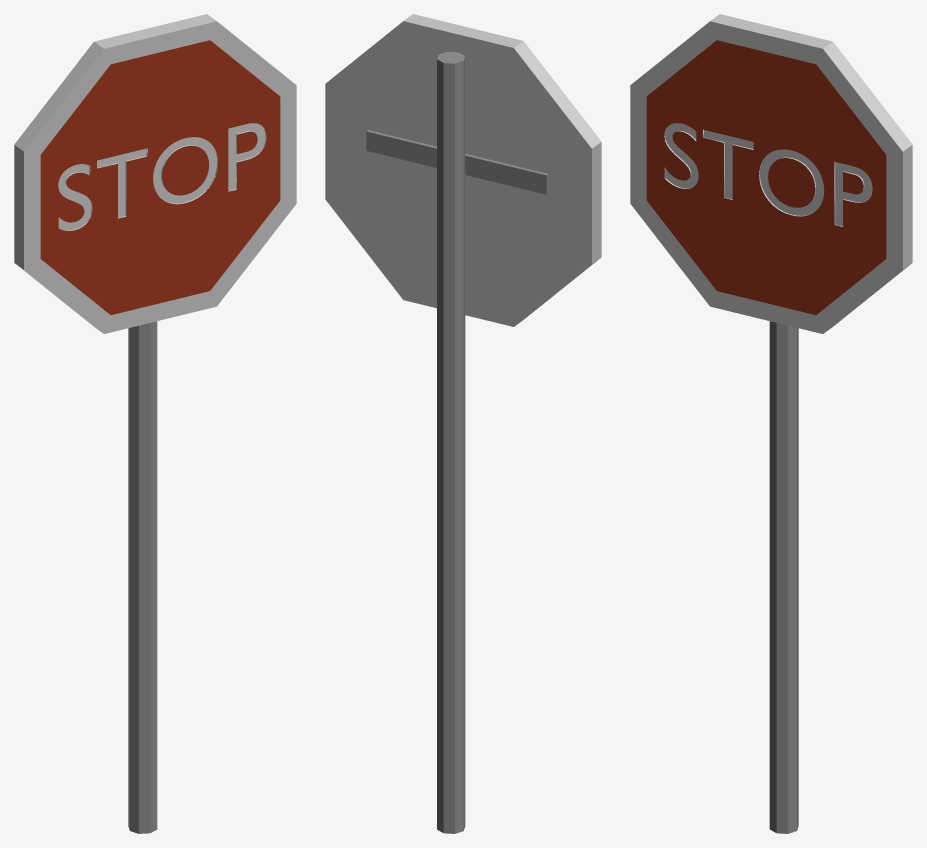
The model's file is SM_RoadSign_01.glb.
3 views of the same model, side by side, from view 1: azimuth 30°, elevation 25°; view 2: azimuth 150°, elevation 25°; view 3: azimuth 330°, elevation 25° (orthographic). The views are drawn at different scales.
Parts seen in each view (by area): view 1: SM_RoadSign_01; view 2: SM_RoadSign_01; view 3: SM_RoadSign_01.
Part boxes in pixels (x1,y1,x2,y2): SM_RoadSign_01: (14,14,296,833); SM_RoadSign_01: (325,14,601,833); SM_RoadSign_01: (630,14,912,833).
Size of the model in its own units: 0.6386 by 1.8 by 0.1018.
Materials: 1 (1 with a texture image).
